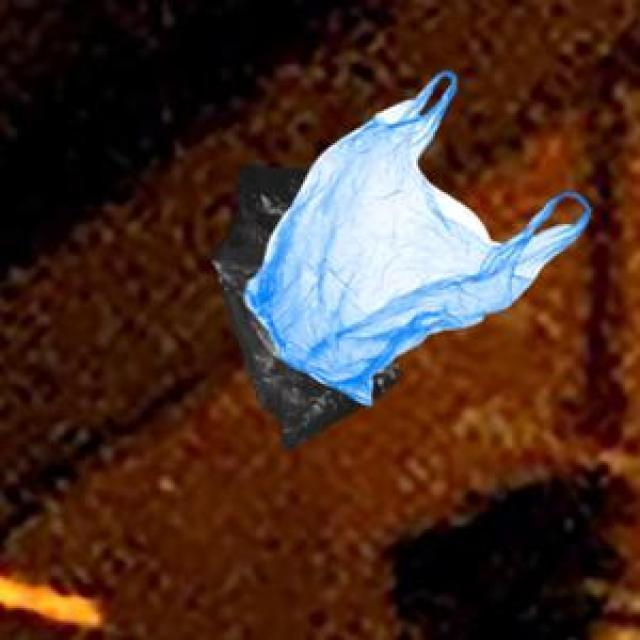waste: (214, 71, 589, 446)
